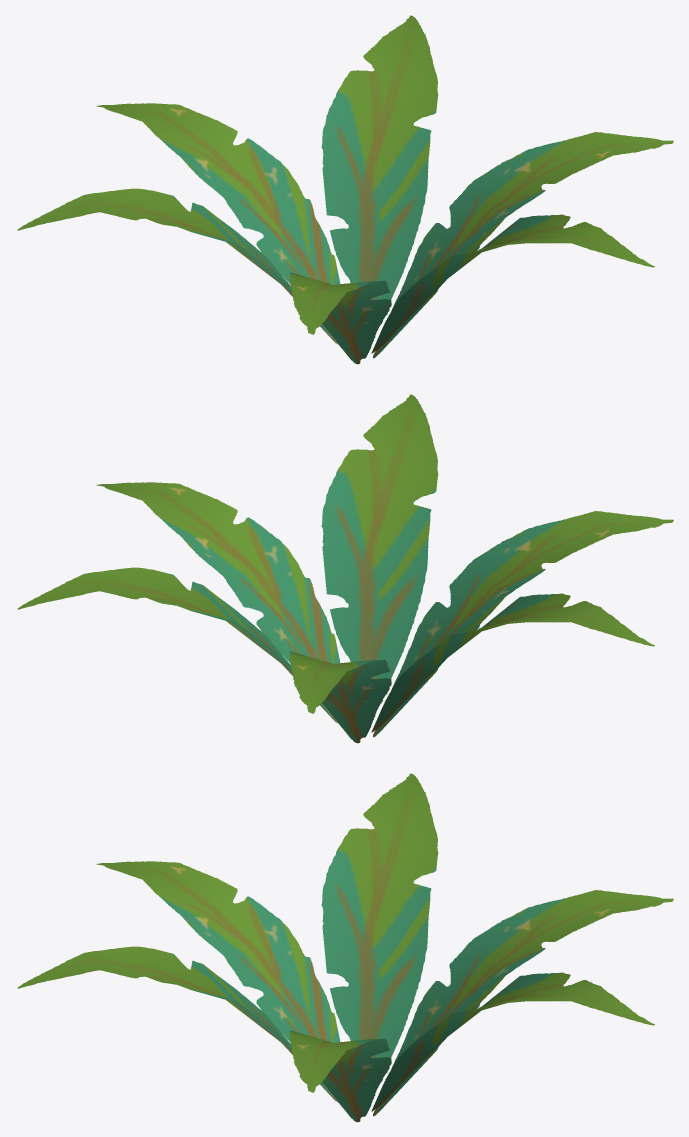
The model's file is MS_Plant3.fbx.
3 renders of one model, top to bottom at view 1: azimuth 30°, elevation 25°; view 2: azimuth 150°, elevation 25°; view 3: azimuth 270°, elevation 25°, orthographic.
Visible parts, largest first — view 1: Plant3; view 2: Plant3; view 3: Plant3.
Part boxes in pixels (x1,y1,x2,y2): Plant3: [17, 15, 673, 364]; Plant3: [17, 394, 673, 743]; Plant3: [17, 773, 673, 1122].
Size of the model in its own units: 81.36 by 26.03 by 76.27.
